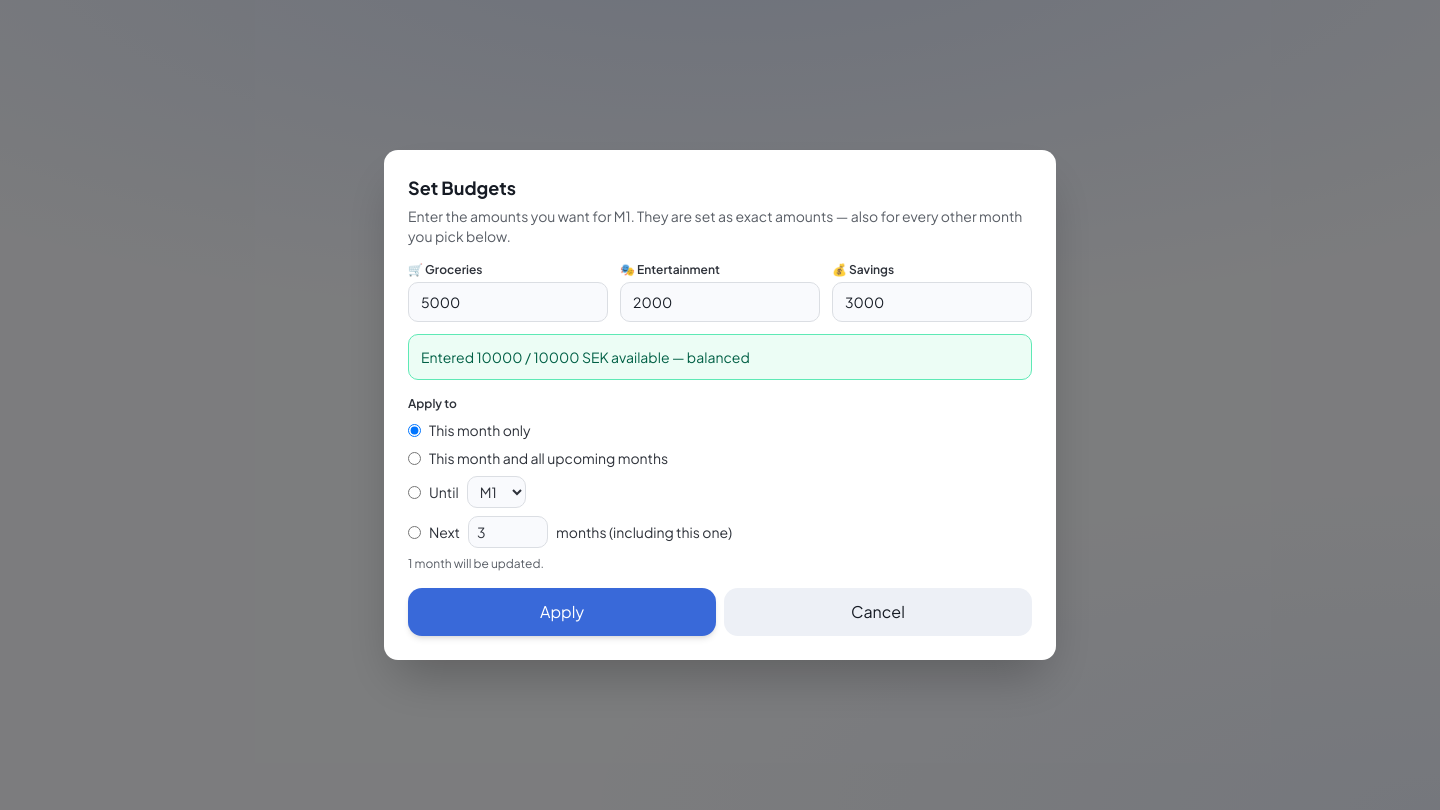
Scenario: SetBudgetsModal › rejects a distribution that does not total 100%
Click the radio button labelled "This month and all upcoming months" at (414, 458), box [408,452,421,464]
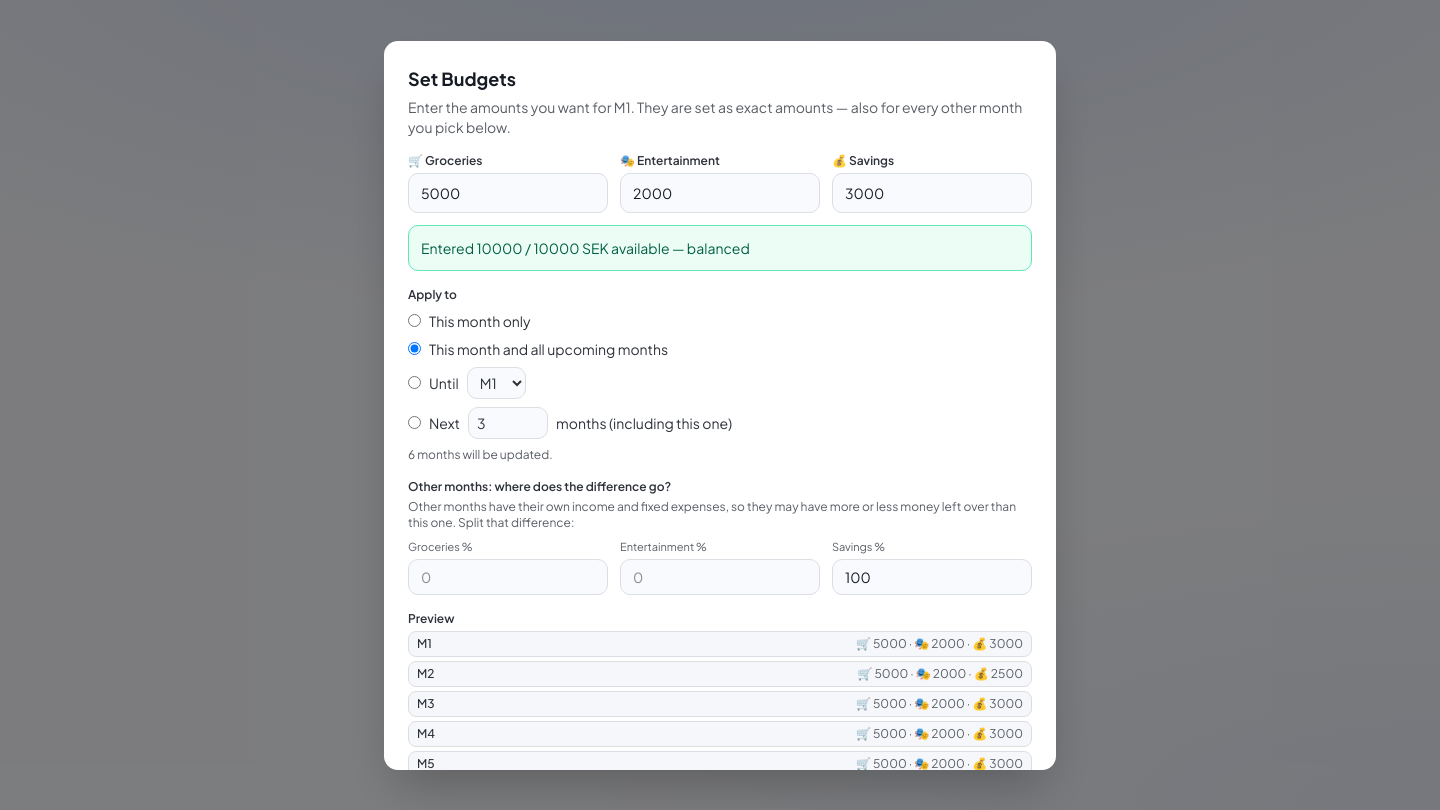
Replace the text in the number field labelled "Savings %" with "50" at (932, 577), box [832,559,1032,595]
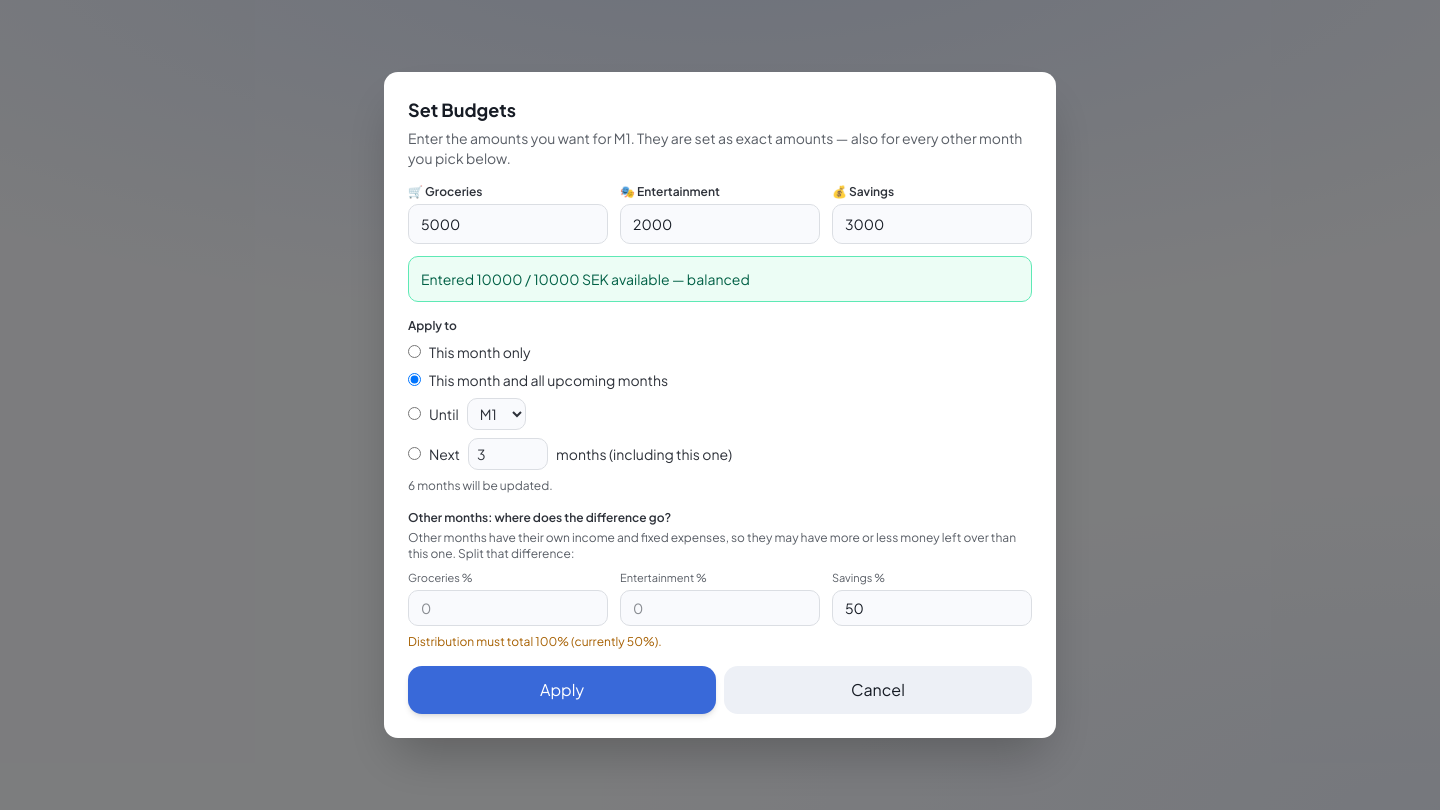
Click the button "Apply" at (562, 690), box [408,666,716,714]
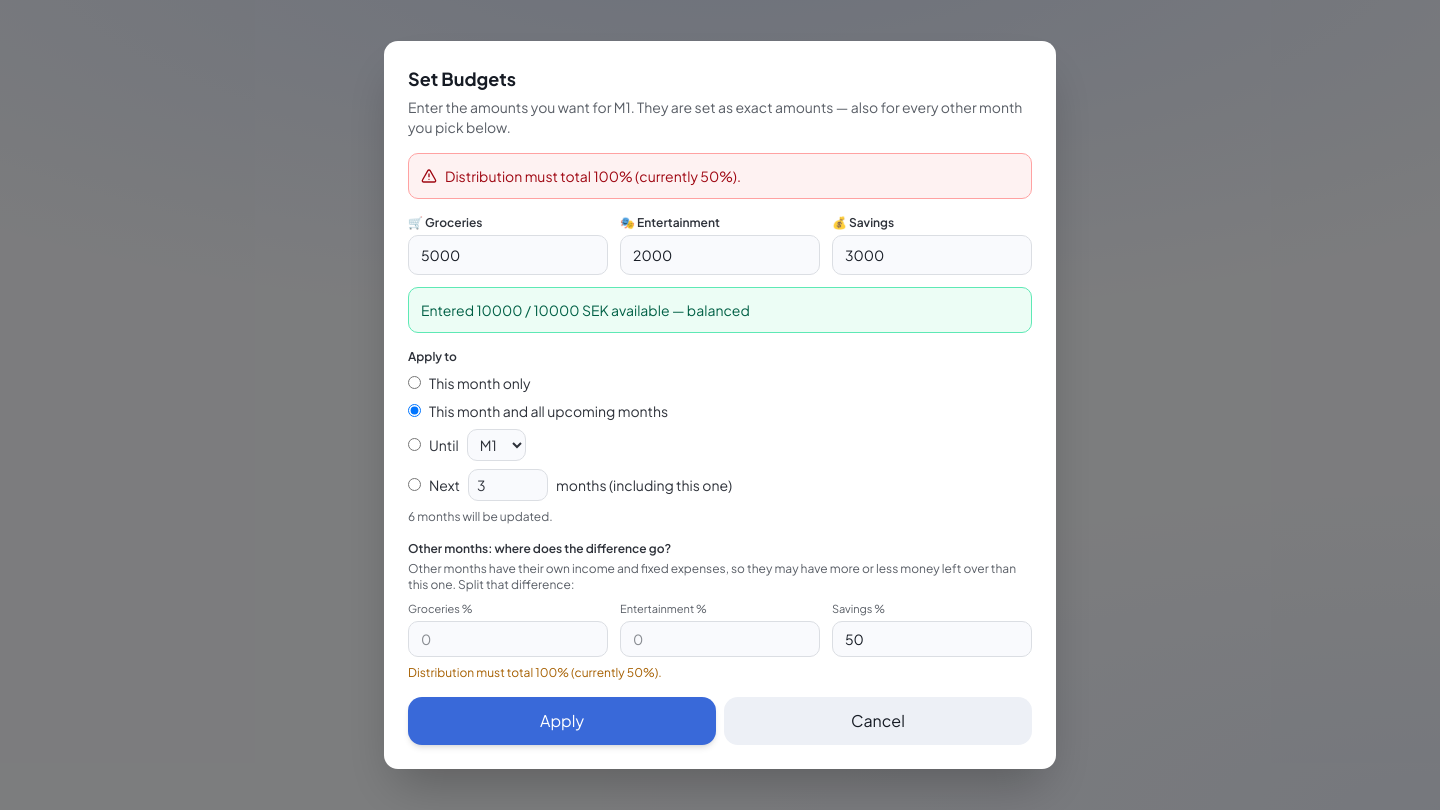
expect the 1st text "Distribution must total 100% (currently 50%)." is shown: met, box [445,166,741,186]
